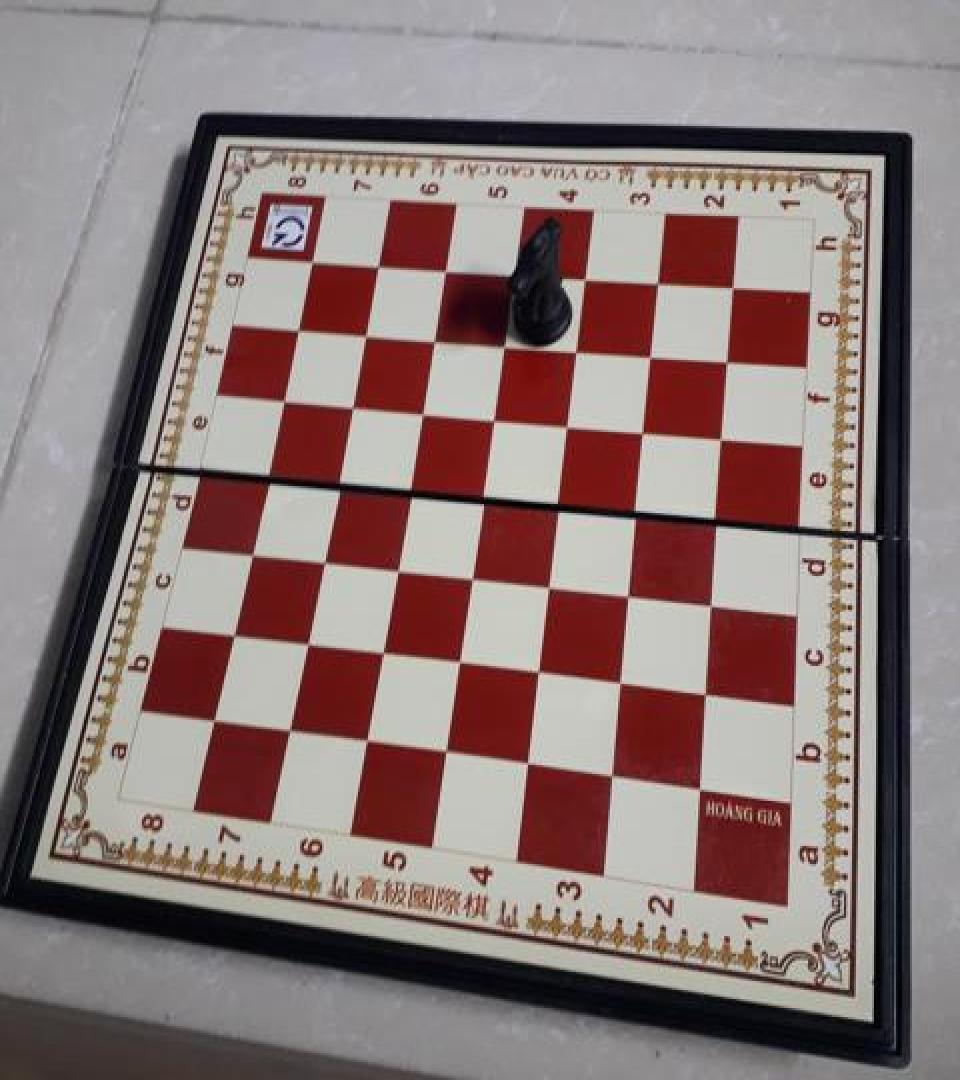xcorner: (200, 702, 228, 734), (275, 712, 303, 744), (353, 723, 381, 755), (601, 758, 629, 790), (219, 615, 247, 647), (292, 624, 320, 656), (368, 633, 396, 665), (446, 643, 474, 675), (236, 533, 264, 565), (309, 541, 337, 573), (383, 549, 411, 581), (253, 454, 281, 486), (324, 461, 352, 493), (396, 468, 424, 500), (624, 490, 652, 522), (704, 498, 732, 530), (269, 381, 297, 413), (338, 387, 366, 419), (481, 398, 509, 430), (709, 417, 737, 449), (285, 310, 313, 342), (352, 315, 380, 347), (491, 325, 519, 357), (638, 335, 666, 367), (299, 244, 327, 276), (365, 247, 393, 279), (432, 252, 460, 284), (501, 255, 529, 287), (644, 263, 672, 295), (433, 735, 461, 766), (516, 746, 544, 777), (688, 771, 716, 802), (527, 654, 555, 685), (609, 664, 637, 695), (694, 674, 722, 705), (459, 557, 487, 588), (537, 566, 565, 597), (617, 575, 645, 606), (699, 584, 727, 615), (470, 476, 498, 507), (546, 483, 574, 514), (409, 393, 437, 424), (555, 404, 583, 435), (631, 411, 659, 442), (421, 321, 449, 352), (564, 330, 592, 361), (714, 341, 742, 372), (572, 260, 600, 291), (718, 268, 746, 299)
